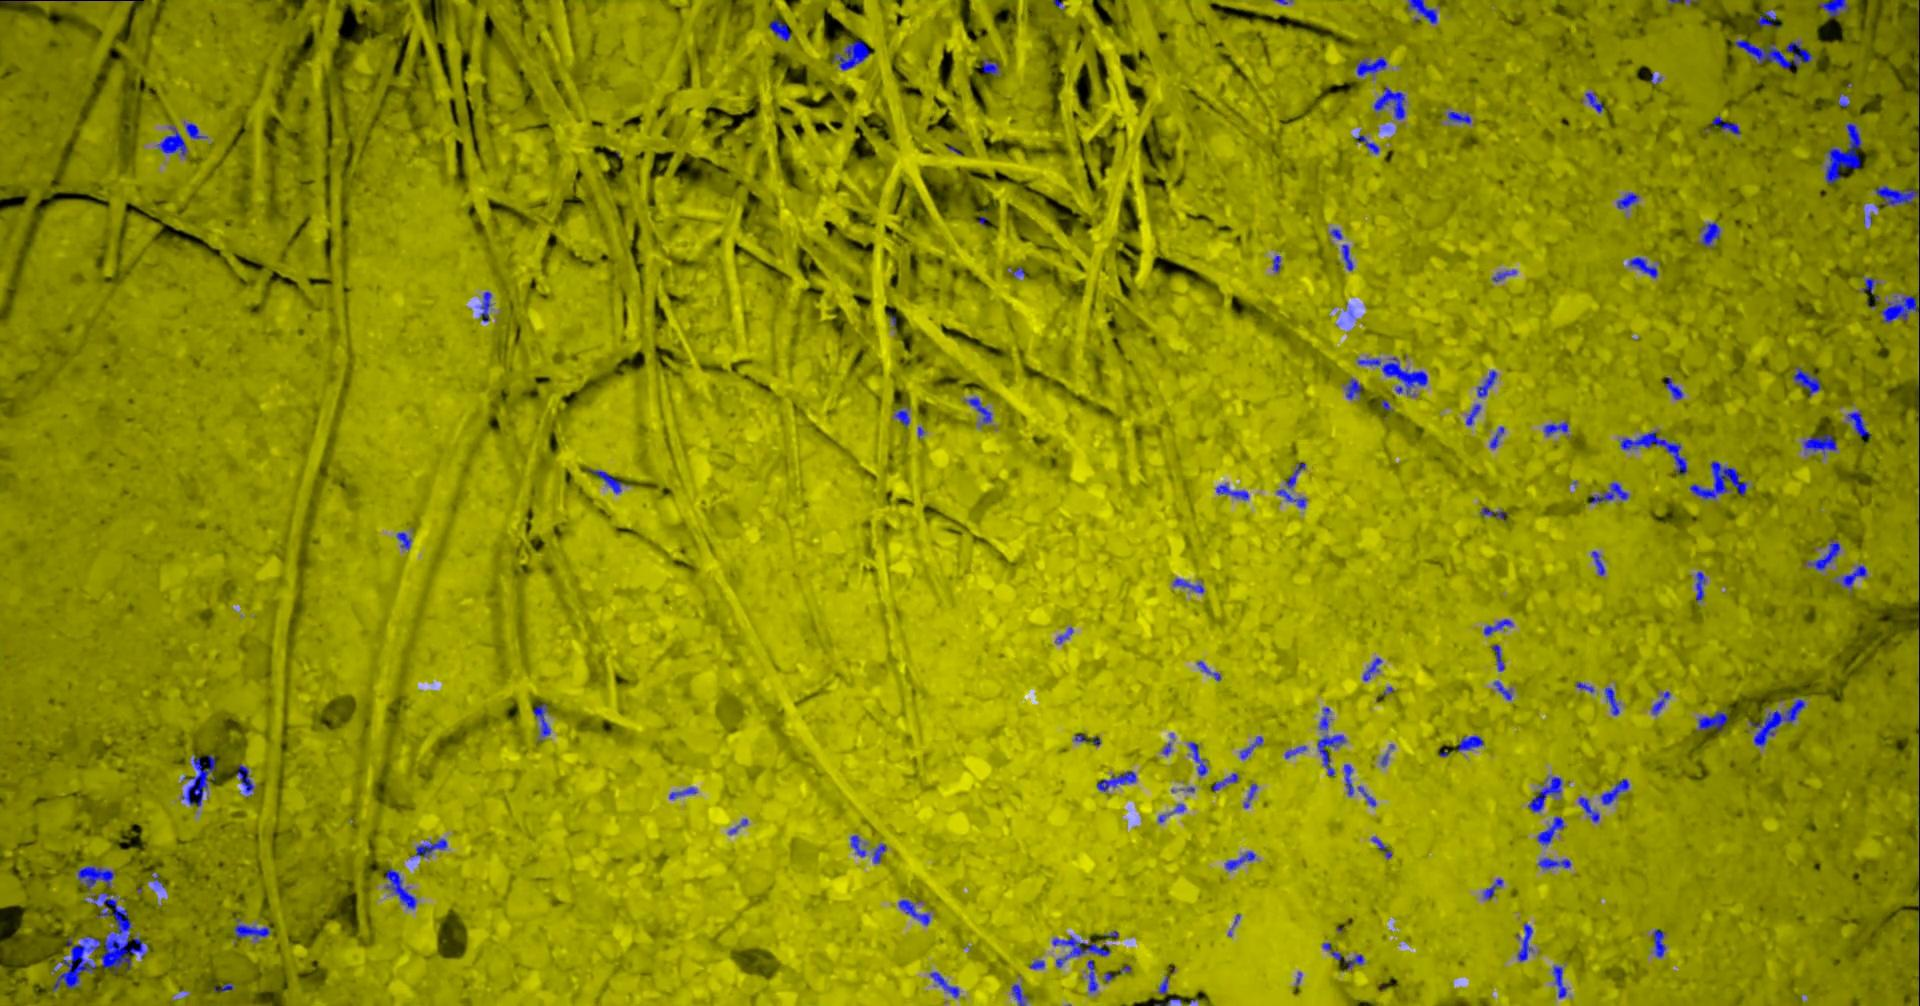ant: (1619, 431, 1686, 475), (1749, 699, 1804, 746), (1356, 357, 1427, 394), (1823, 122, 1862, 183), (1689, 460, 1747, 499), (1735, 39, 1812, 69), (1051, 935, 1110, 967), (180, 754, 215, 807), (385, 868, 417, 909), (1276, 462, 1305, 507), (1879, 291, 1919, 323), (1317, 734, 1345, 776), (830, 39, 869, 70), (1528, 776, 1561, 810), (1373, 86, 1404, 119), (1807, 539, 1839, 570), (587, 467, 623, 493), (157, 124, 187, 156), (1792, 366, 1821, 396), (77, 865, 114, 889), (1589, 481, 1628, 503), (1096, 770, 1135, 791), (1874, 185, 1919, 205), (898, 899, 930, 925), (930, 970, 959, 997), (232, 918, 270, 939), (1537, 815, 1563, 843), (1600, 779, 1629, 804), (1407, 0, 1437, 23), (1802, 433, 1836, 453), (965, 396, 990, 423), (1187, 742, 1208, 775), (1695, 710, 1727, 730), (1846, 412, 1870, 437), (1839, 565, 1865, 588), (1356, 56, 1385, 76), (1628, 257, 1657, 277), (1215, 483, 1248, 500), (532, 702, 550, 735), (236, 763, 254, 796), (1330, 950, 1363, 968), (415, 838, 446, 857), (1224, 851, 1255, 870), (1516, 923, 1531, 962), (1476, 370, 1496, 398), (1818, 0, 1848, 19), (1239, 735, 1262, 760), (1578, 796, 1599, 822), (1550, 965, 1566, 998), (1710, 116, 1738, 133), (768, 18, 790, 41), (1354, 133, 1379, 152), (1700, 221, 1719, 246), (1483, 619, 1512, 635), (1196, 661, 1220, 680), (1211, 774, 1237, 791), (1370, 836, 1390, 857), (1663, 376, 1683, 399), (1363, 657, 1382, 680), (1651, 690, 1669, 714), (1172, 578, 1203, 592), (1604, 687, 1619, 715), (1483, 878, 1502, 899), (1457, 735, 1483, 751), (1479, 506, 1507, 520), (479, 291, 491, 321), (1011, 983, 1029, 1005), (1756, 9, 1777, 27), (1585, 91, 1603, 112), (1493, 680, 1511, 700), (1357, 786, 1375, 807), (1617, 192, 1638, 208), (1652, 929, 1665, 956), (1465, 403, 1481, 426), (1491, 644, 1503, 671), (1543, 420, 1567, 434), (1243, 782, 1257, 807), (185, 122, 206, 138), (1345, 379, 1361, 399), (1537, 857, 1570, 868), (850, 835, 865, 856), (1591, 550, 1604, 575), (1087, 959, 1097, 991), (1490, 426, 1503, 448), (1341, 244, 1352, 271), (982, 58, 999, 75), (1448, 111, 1470, 123), (1491, 269, 1516, 281), (1343, 763, 1352, 795), (1284, 746, 1305, 758), (894, 408, 909, 426), (669, 788, 696, 798), (872, 843, 886, 862), (1695, 572, 1704, 601), (396, 532, 411, 549), (1055, 627, 1072, 643), (1318, 708, 1330, 729), (1862, 277, 1874, 292), (213, 982, 232, 991), (1272, 255, 1280, 271), (1029, 960, 1044, 968)
